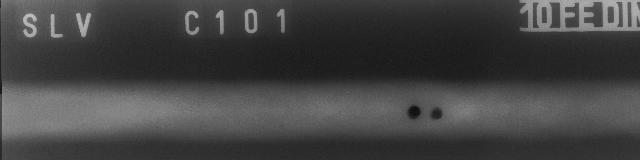PO: (393, 94, 427, 126), (427, 103, 448, 125)
